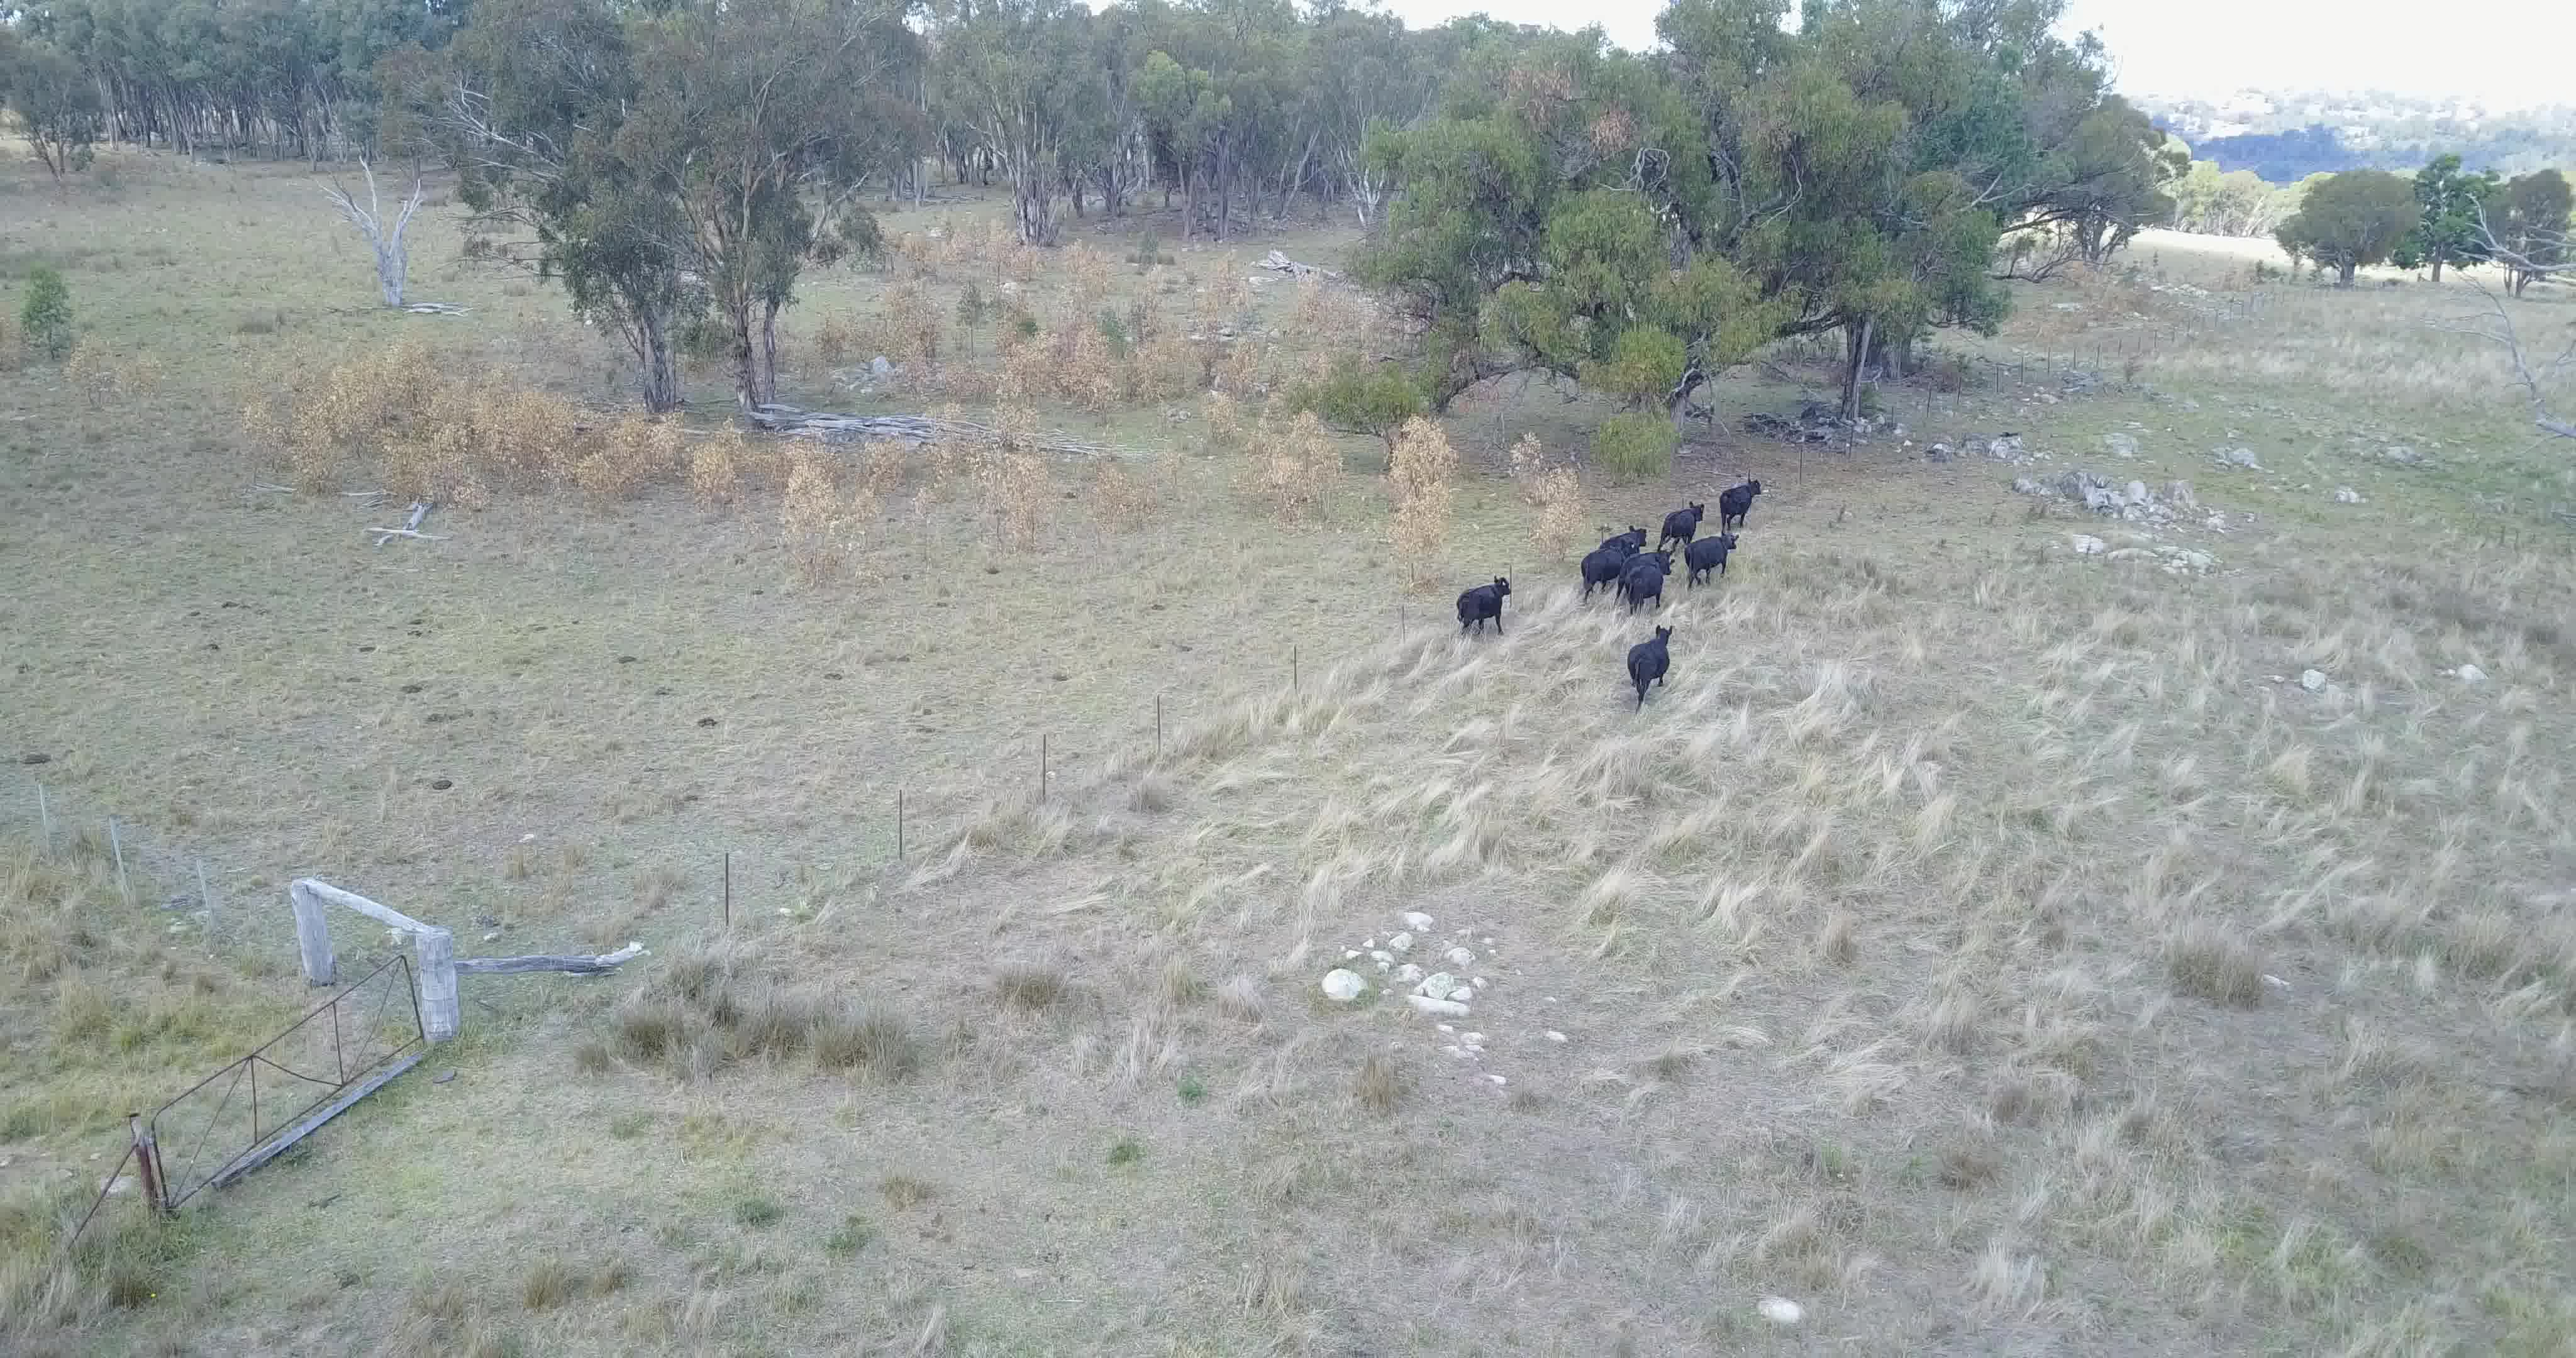cattle: (1452, 571, 1516, 649), (1625, 624, 1676, 722), (1680, 530, 1741, 593), (1716, 470, 1763, 533), (1569, 540, 1632, 586), (1658, 496, 1709, 550), (1625, 561, 1673, 617), (1595, 525, 1651, 552), (1620, 545, 1678, 566)
